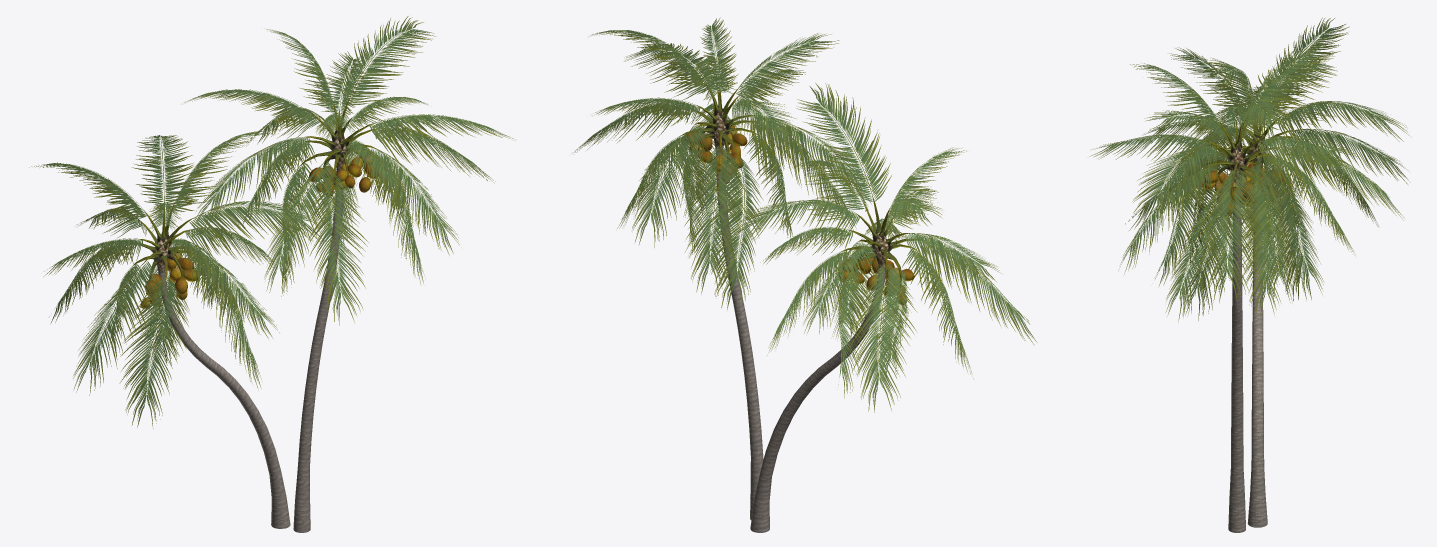
Rendered from coconut palm.fbx.
The picture shows the model from 3 angles, left to right: view 1: azimuth 30°, elevation 25°; view 2: azimuth 150°, elevation 25°; view 3: azimuth 270°, elevation 25°; orthographic projection. The views are drawn at different scales.
Parts seen in each view (by area): view 1: Tree_2, Tree_0, Tree_3, Tree_4; view 2: Tree_2, Tree_0, Tree_3, Tree_4, Tree_1; view 3: Tree_2, Tree_0, Tree_3, Tree_4.
Part boxes in pixels (x1,y1,x2,y2): Tree_2: (29, 16, 513, 428); Tree_0: (158, 170, 343, 532); Tree_3: (132, 98, 379, 295); Tree_4: (140, 154, 378, 308); Tree_2: (571, 17, 1036, 412); Tree_0: (715, 151, 885, 532); Tree_3: (679, 80, 917, 291); Tree_4: (683, 126, 914, 305); Tree_1: (712, 112, 888, 270); Tree_2: (1089, 17, 1410, 323); Tree_0: (1228, 201, 1267, 532); Tree_3: (1204, 105, 1296, 215); Tree_4: (1202, 162, 1283, 217).
Size of the model in its own units: 630 by 628 by 402.
Materials: 5 (5 with a texture image).
